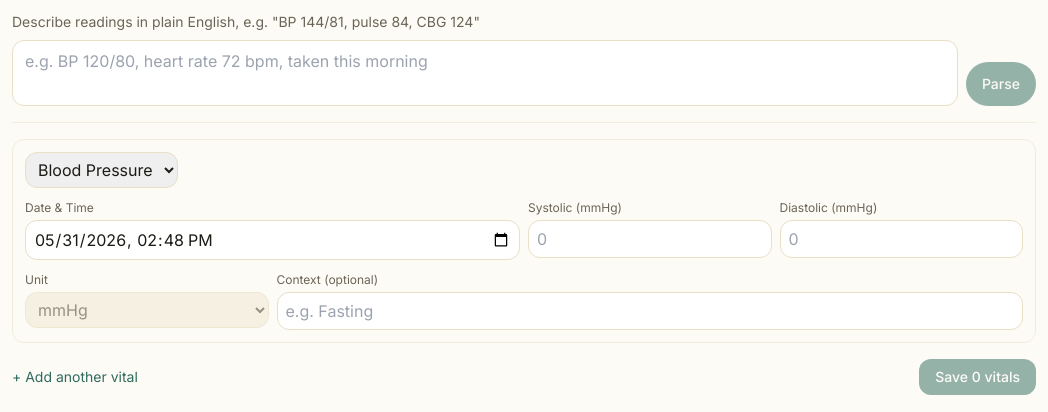
VitalLogPanel — unit selector › defaults glucose unit to mg/dL (matching typical meter output)
Select "Blood Glucose" in the 1st dropdown showing "Blood Pressure" at (102, 170), box [25,152,178,188]
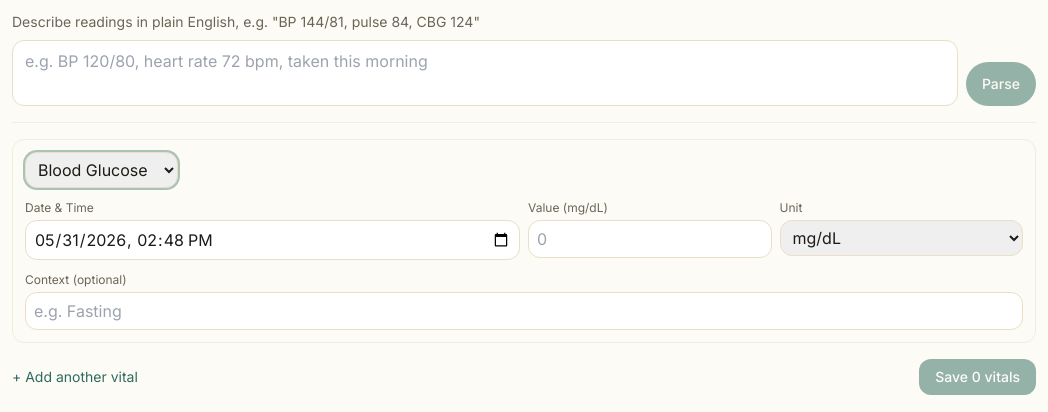
Check: the dropdown below "Unit" shows "mg/dL", box [780,220,1023,256]
